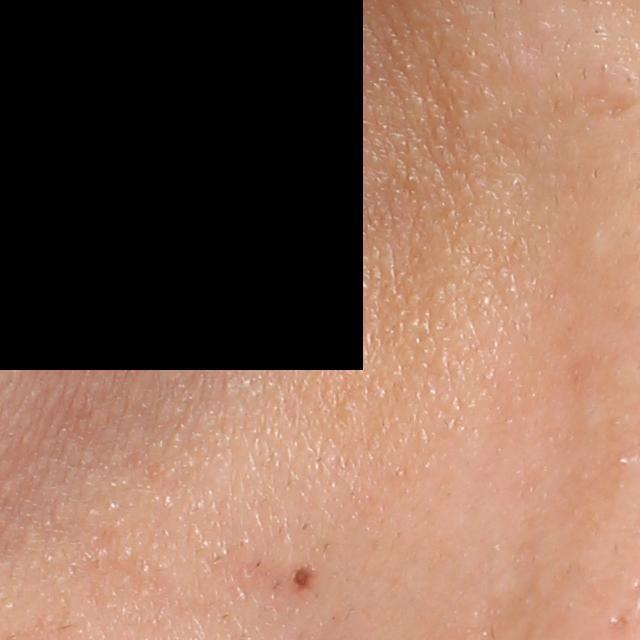nevus: (291, 562, 311, 589)
